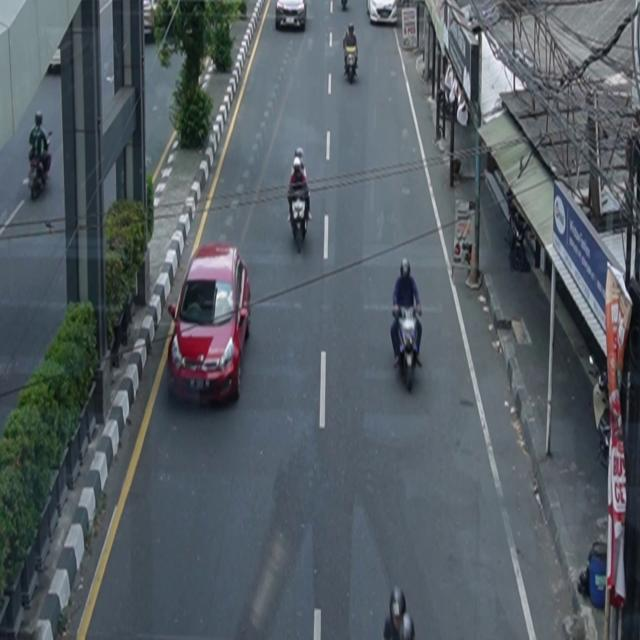car: (168, 243, 252, 407), (276, 1, 308, 31), (367, 1, 398, 26)
